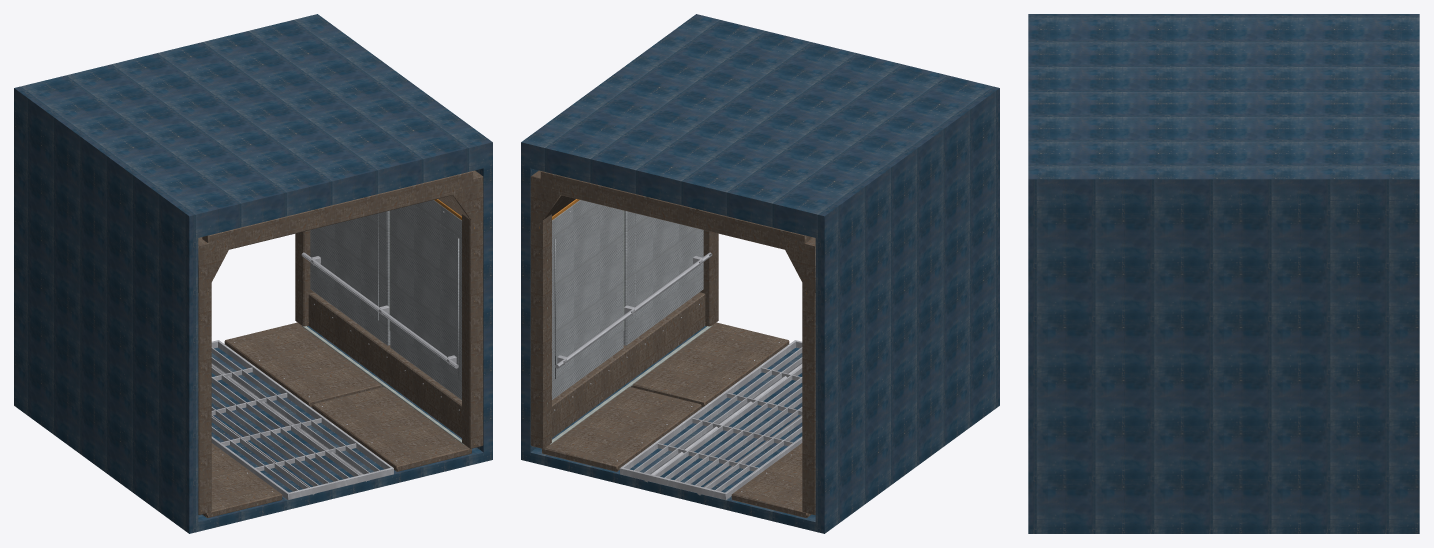
Rendered from Corridor_Straight.fbx.
3 renders of one model, left to right at view 1: azimuth 30°, elevation 25°; view 2: azimuth 150°, elevation 25°; view 3: azimuth 270°, elevation 25°, orthographic. The views are drawn at different scales.
Visible parts, largest first — view 1: Corridor_Straight.001; view 2: Corridor_Straight.001; view 3: Corridor_Straight.001.
Boxes of the visible parts, x1,y1,x2,y2 form: Corridor_Straight.001: (14,14,492,533); Corridor_Straight.001: (521,14,999,533); Corridor_Straight.001: (1028,14,1419,533).
Bounding box in the file's own units: 4 × 4 × 4.
Materials: 6 (6 with a texture image).
